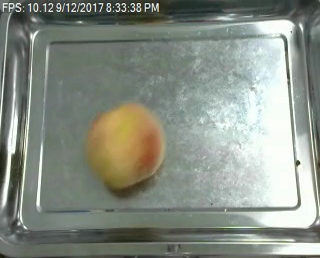Peach: (86, 102, 164, 189)
